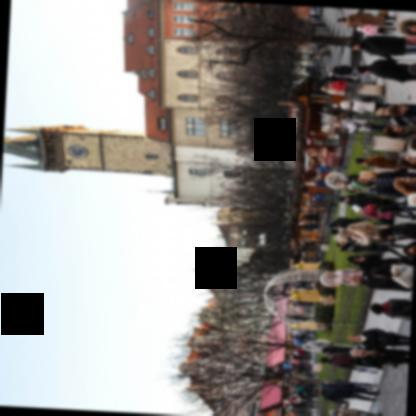handbag: (370, 352, 398, 368), (369, 9, 388, 15)
